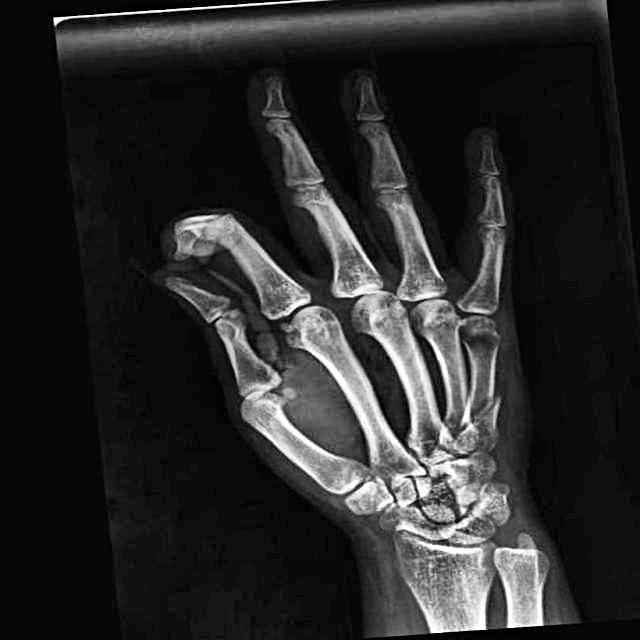Comminuted: (167, 190, 241, 270)
Oblique Displaced: (451, 376, 522, 451)
